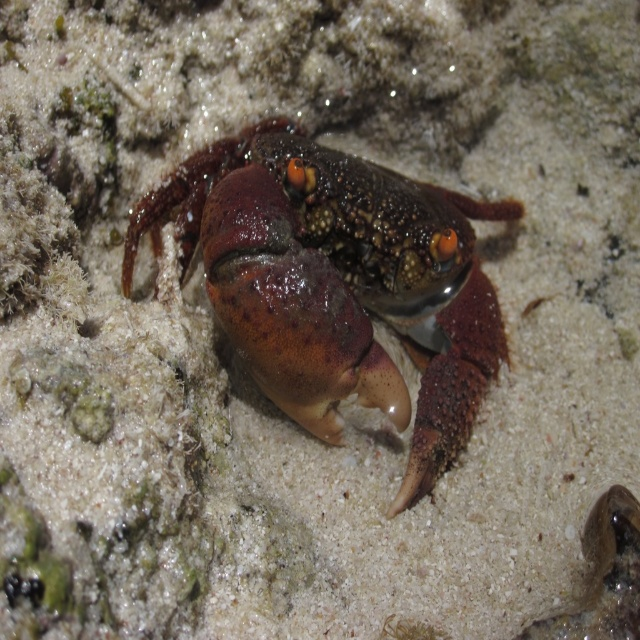Crab: (117, 113, 528, 517)
